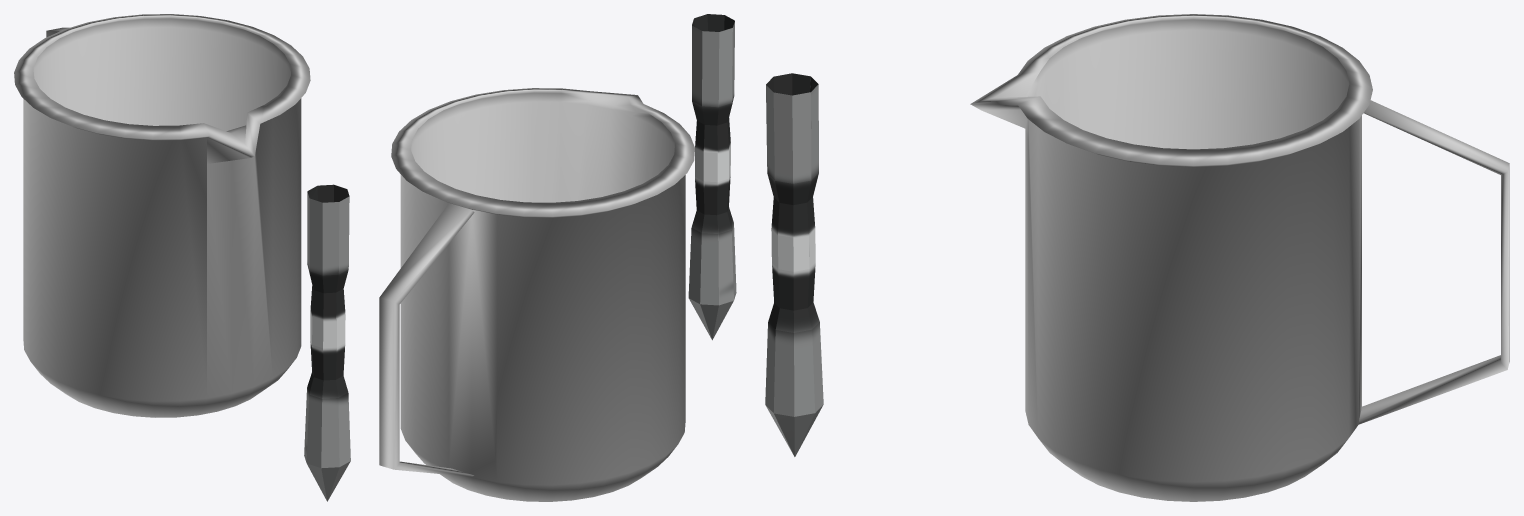
The model's file is BottleAndReShooter.fbx.
The picture shows the model from 3 angles, left to right: view 1: azimuth 30°, elevation 25°; view 2: azimuth 150°, elevation 25°; view 3: azimuth 270°, elevation 25°; orthographic projection. The views are drawn at different scales.
Visible parts, largest first — view 1: Cilindro, Cono; view 2: Cilindro, Cono; view 3: Cilindro, Cono.
Part boxes in pixels (x1,y1,x2,y2): Cilindro: (14, 14, 310, 417); Cono: (304, 184, 350, 501); Cilindro: (379, 88, 694, 501); Cono: (688, 14, 736, 340); Cilindro: (970, 14, 1509, 501); Cono: (765, 73, 823, 456).
Bounding box in the file's own units: 276 × 325 × 572.
